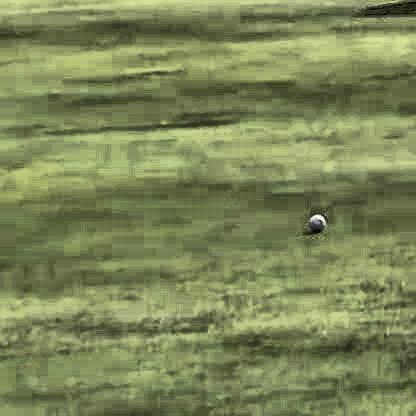golfball: (305, 210, 323, 229)
